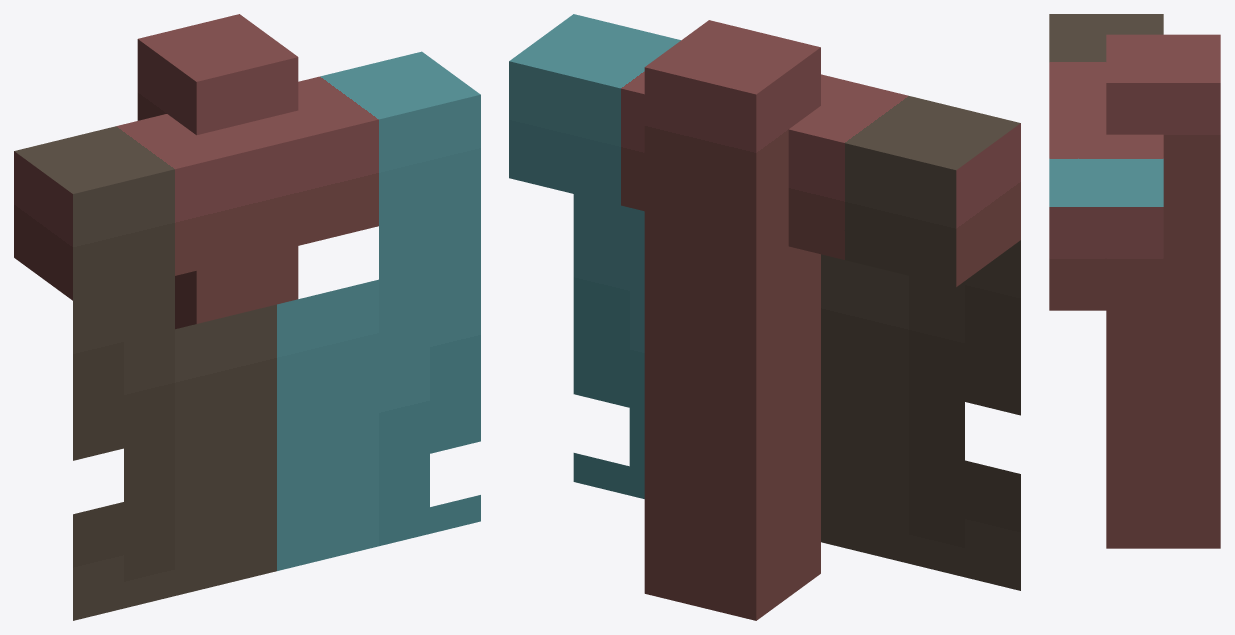
The model's file is _Draugr Banner Flag.glb.
3 views of the same model, side by side, from view 1: azimuth 30°, elevation 25°; view 2: azimuth 150°, elevation 25°; view 3: azimuth 270°, elevation 25° (orthographic). The views are drawn at different scales.
Visible parts, largest first — view 1: cube; view 2: cube; view 3: cube.
Part boxes in pixels (x1=…): cube: x1=14, y1=14, x2=480, y2=620; cube: x1=509, y1=14, x2=1020, y2=620; cube: x1=1049, y1=14, x2=1220, y2=548.
Size of the model in its own units: 1 by 1.12 by 0.375.
1 material, 1 textured.
